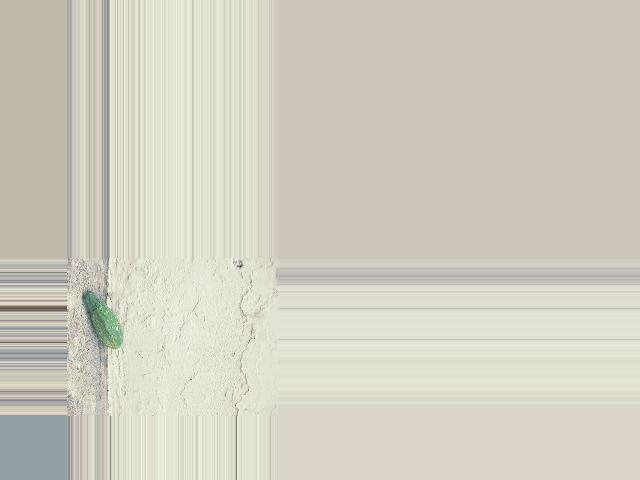cucumber: (83, 292, 124, 349)
